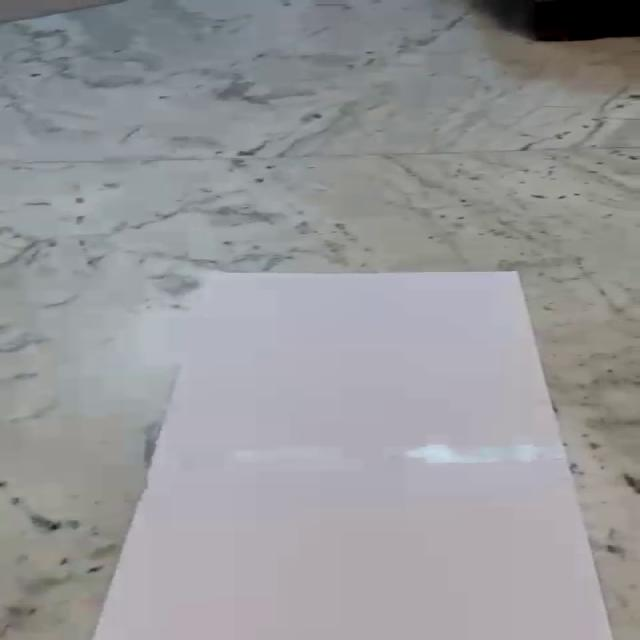road: (92, 272, 616, 640)
